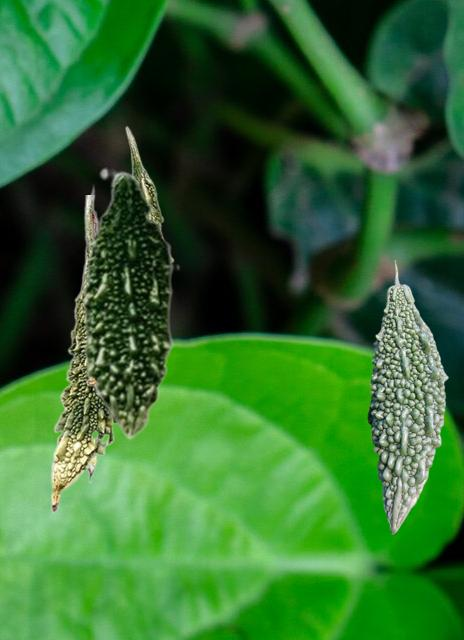ampalaya: (82, 167, 179, 440), (85, 125, 173, 385), (367, 260, 447, 533), (50, 195, 116, 513)
